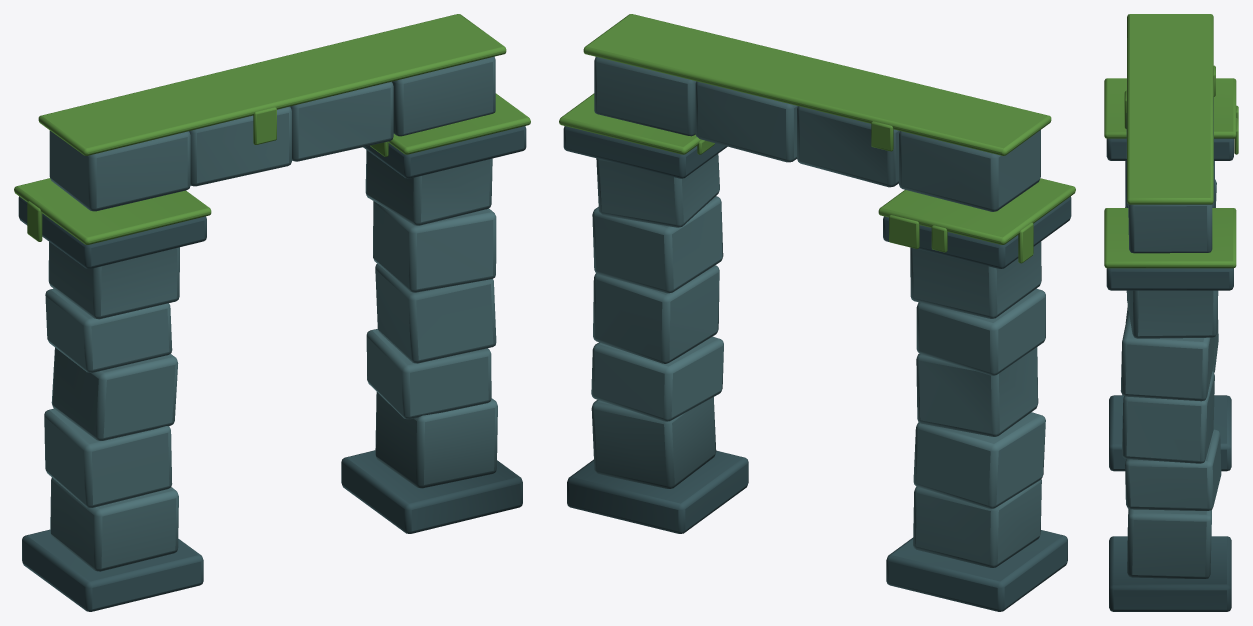
File: ruin_arch.glb
3 renders of one model, left to right at view 1: azimuth 30°, elevation 25°; view 2: azimuth 150°, elevation 25°; view 3: azimuth 270°, elevation 25°, orthographic. The views are drawn at different scales.
Parts seen in each view (by area): view 1: ruin_arch_mesh; view 2: ruin_arch_mesh; view 3: ruin_arch_mesh.
Boxes of the visible parts, x1,y1,x2,y2 form: ruin_arch_mesh: (14,14,530,611); ruin_arch_mesh: (559,14,1075,611); ruin_arch_mesh: (1104,14,1238,611).
Bounding box in the file's own units: 6.18 × 6 × 1.78.
